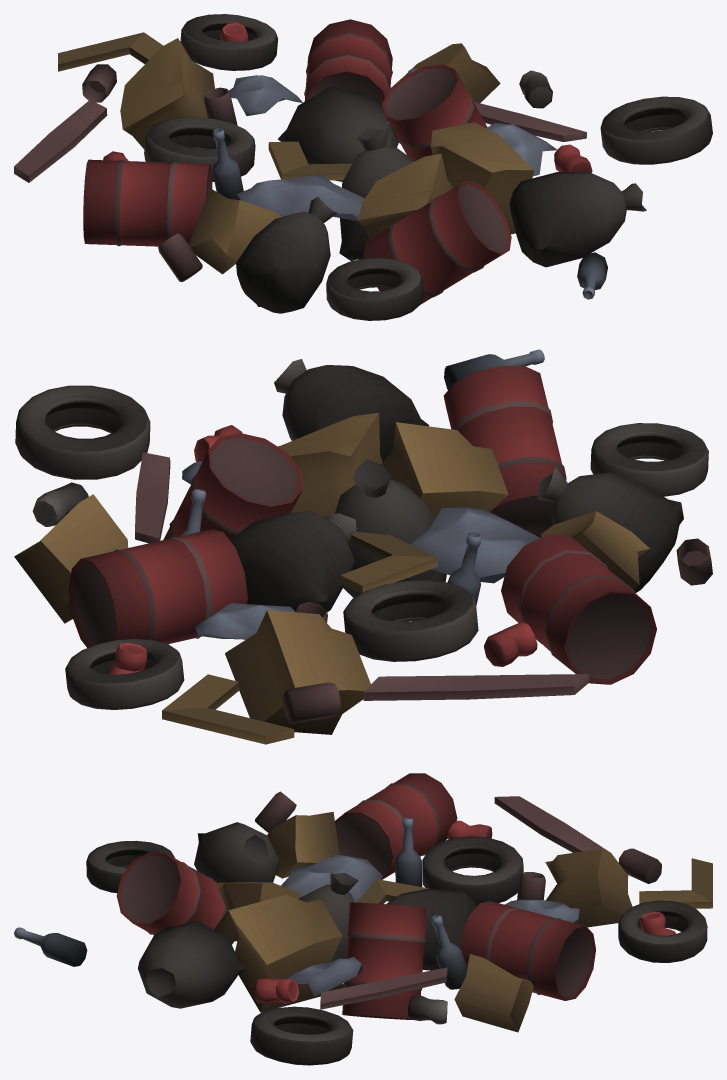
The model's file is Asset_TrashSea.fbx.
The picture shows the model from 3 angles, top to bottom: view 1: azimuth 30°, elevation 25°; view 2: azimuth 150°, elevation 25°; view 3: azimuth 270°, elevation 25°; orthographic projection. The views are drawn at different scales.
Visible parts, largest first — view 1: Trash_Sea; view 2: Trash_Sea; view 3: Trash_Sea.
Part boxes in pixels (box(x1,y1,x2,y2)): Trash_Sea: box(14, 14, 712, 320); Trash_Sea: box(14, 349, 712, 744); Trash_Sea: box(14, 773, 712, 1065).
Size of the model in its own units: 53.25 by 12.2 by 61.3.
